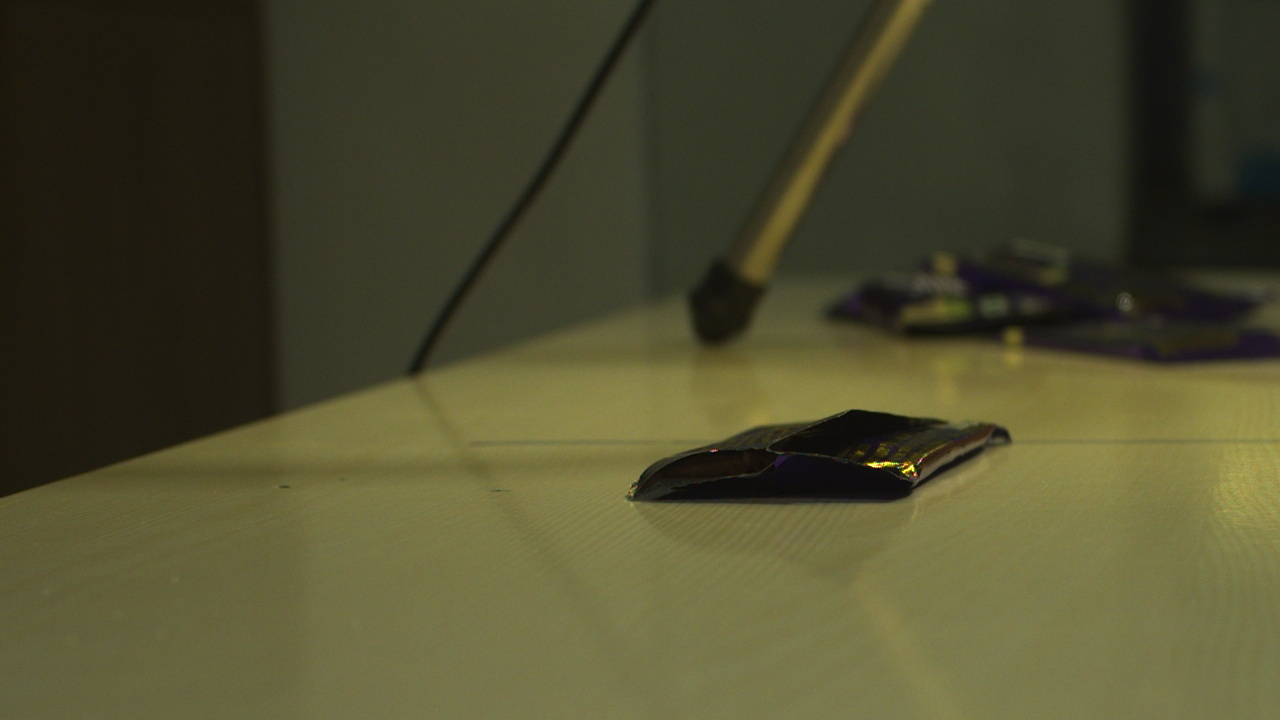Good: (632, 444, 898, 505)
